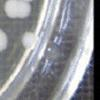white: (2, 0, 33, 19), (0, 28, 10, 54), (20, 31, 34, 49)
